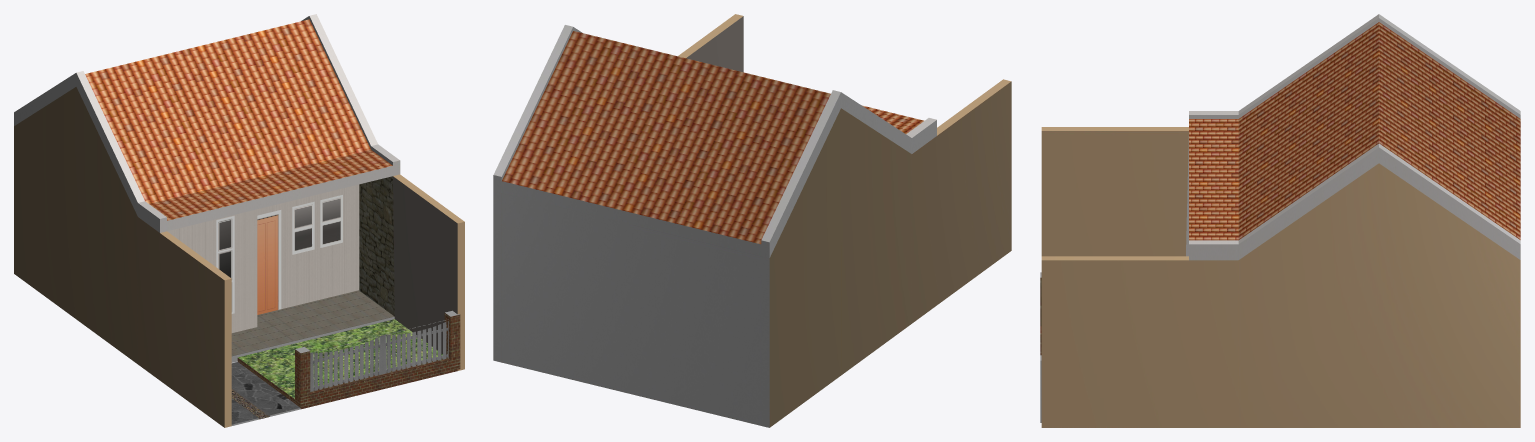
The model's file is simplehouse.dae.
3 views of the same model, side by side, from view 1: azimuth 30°, elevation 25°; view 2: azimuth 150°, elevation 25°; view 3: azimuth 270°, elevation 25° (orthographic). The views are drawn at different scales.
Visible parts, largest first — view 1: Cube_001, Cube_002; view 2: Cube_001; view 3: Cube_001.
Boxes of the visible parts, x1,y1,x2,y2 form: Cube_001: (14, 14, 464, 427); Cube_002: (310, 319, 448, 391); Cube_001: (493, 14, 1011, 427); Cube_001: (1040, 14, 1520, 427).
Size of the model in its own units: 0.8006 by 1.22 by 0.7858.
